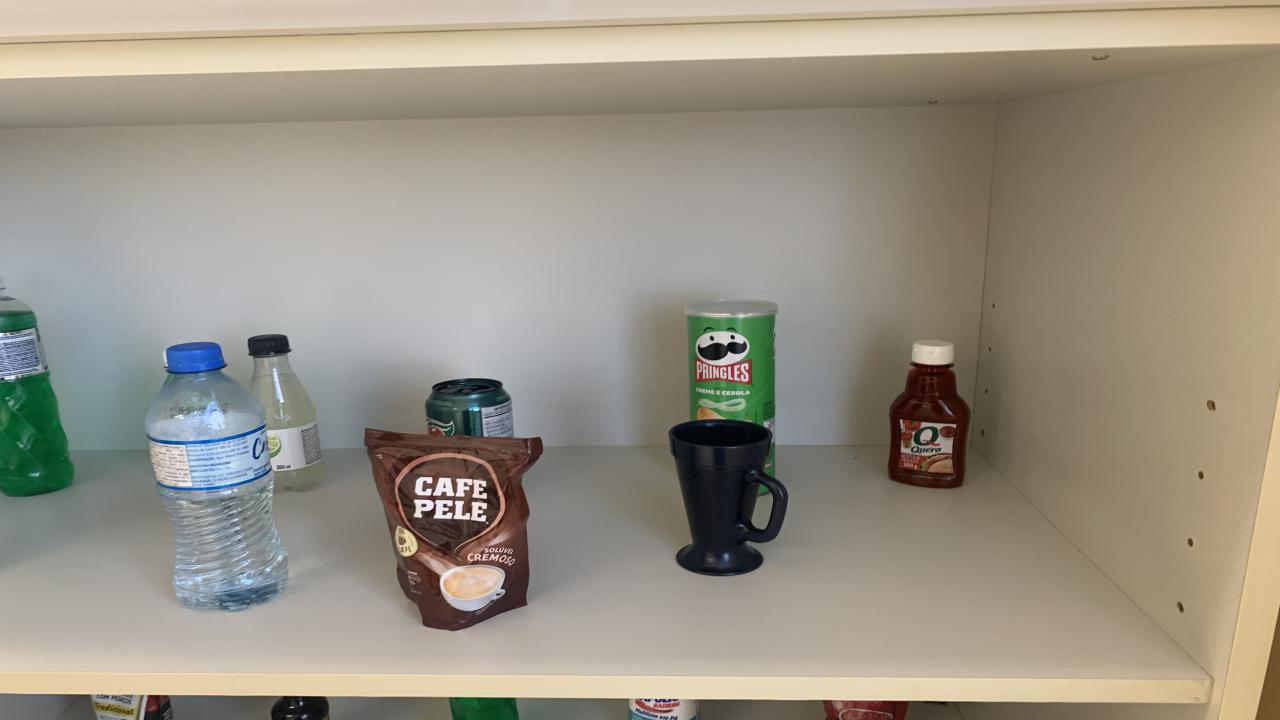Cleaner-Cleanup_Items: (628, 699, 700, 720)
Coffee-Pantry_Items: (365, 429, 542, 630)
Detergent-Cleanup_Items: (0, 279, 75, 497), (450, 698, 520, 720)
English_Sauce-Pantry_Items: (270, 696, 330, 720)
Guarana_Can-Drinks: (425, 379, 515, 437)
Ketchup-Pantry_Items: (888, 339, 970, 488)
Pringles-Snacks: (685, 300, 778, 437)
Soda-Drinks: (250, 336, 325, 493)
Tomato_Sauce-Pantry_Items: (90, 694, 172, 720), (822, 699, 908, 720)
Water_Bottle-Drinks: (145, 343, 288, 609)
